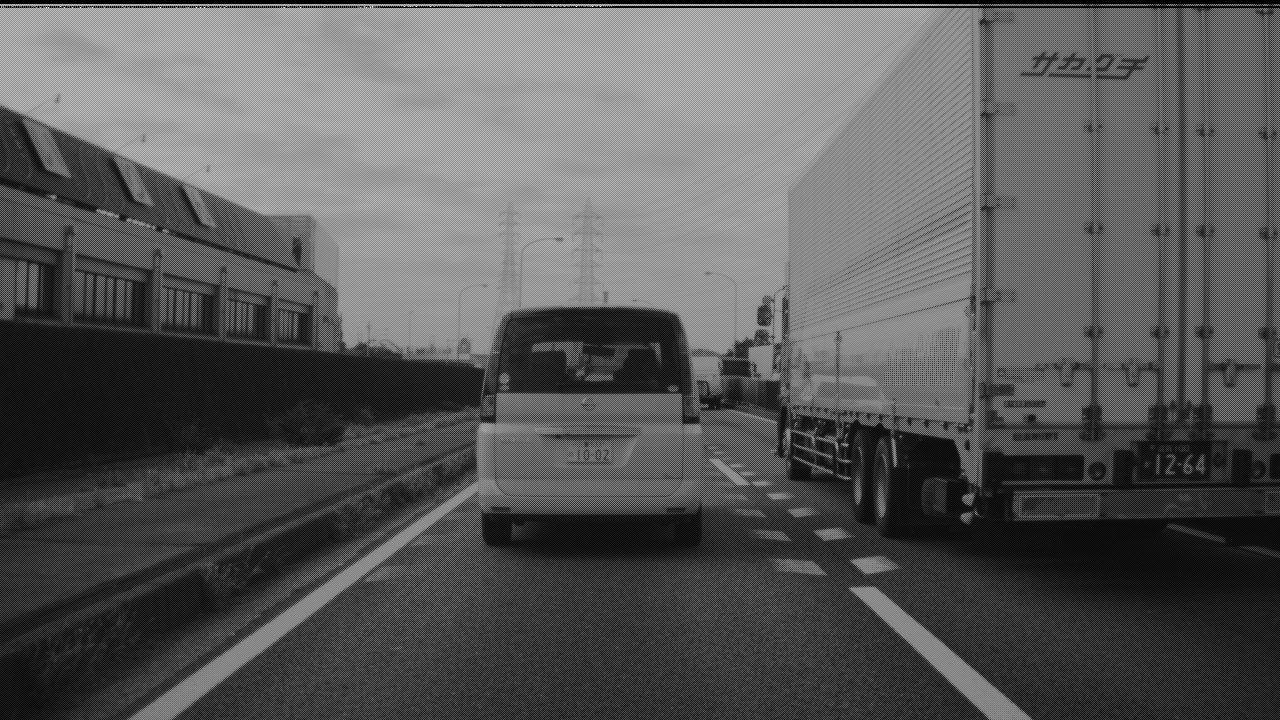pole: (454, 290, 462, 366), (731, 279, 737, 357), (517, 248, 524, 307)
